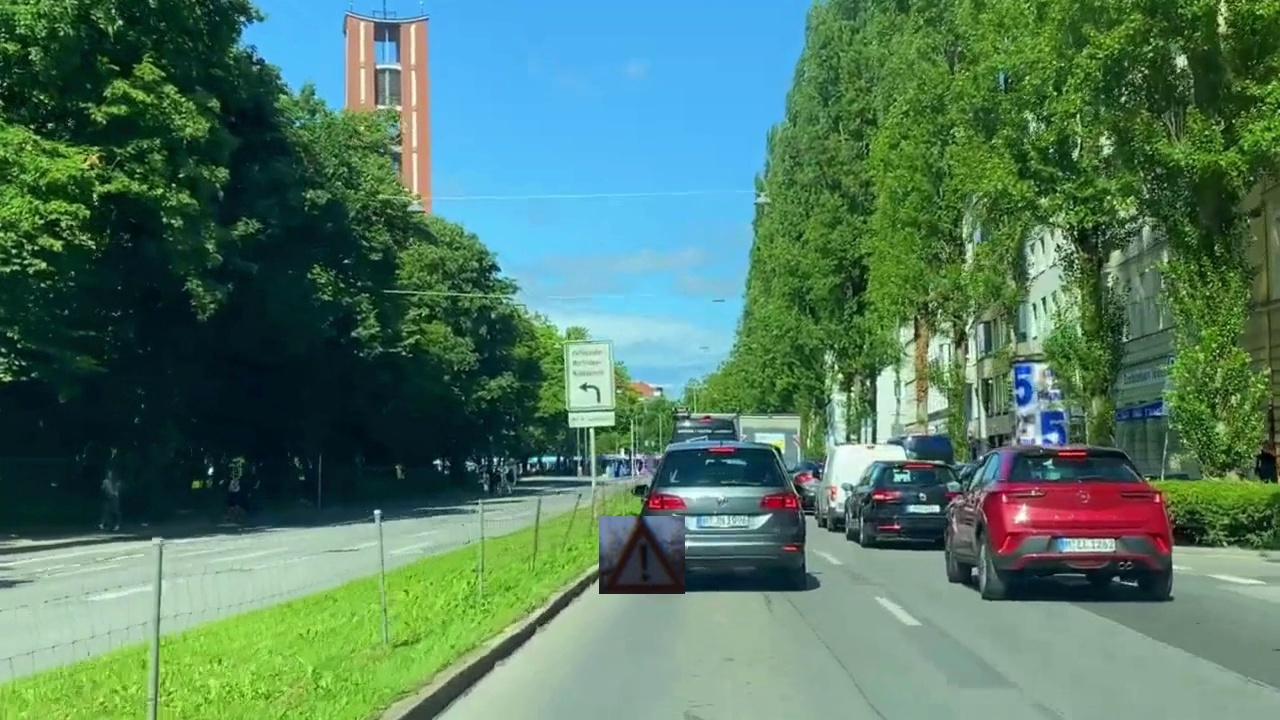Caution: (599, 516, 685, 594)
